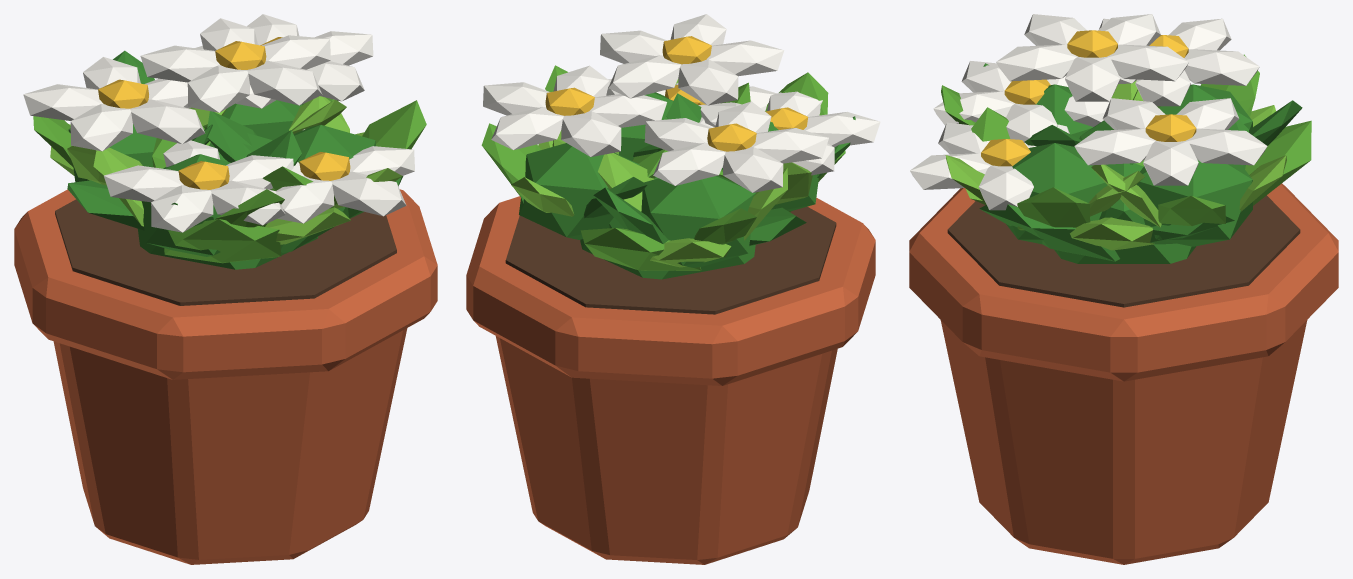
The model's file is flower_pot.glb.
3 views of the same model, side by side, from view 1: azimuth 30°, elevation 25°; view 2: azimuth 150°, elevation 25°; view 3: azimuth 270°, elevation 25° (orthographic). The views are drawn at different scales.
Parts seen in each view (by area): view 1: flower_pot; view 2: flower_pot; view 3: flower_pot.
Part boxes in pixels (x1,y1,x2,y2): flower_pot: [14, 14, 437, 564]; flower_pot: [466, 14, 880, 564]; flower_pot: [909, 14, 1338, 564].
Size of the model in its own units: 0.4385 by 0.5385 by 0.4385.
